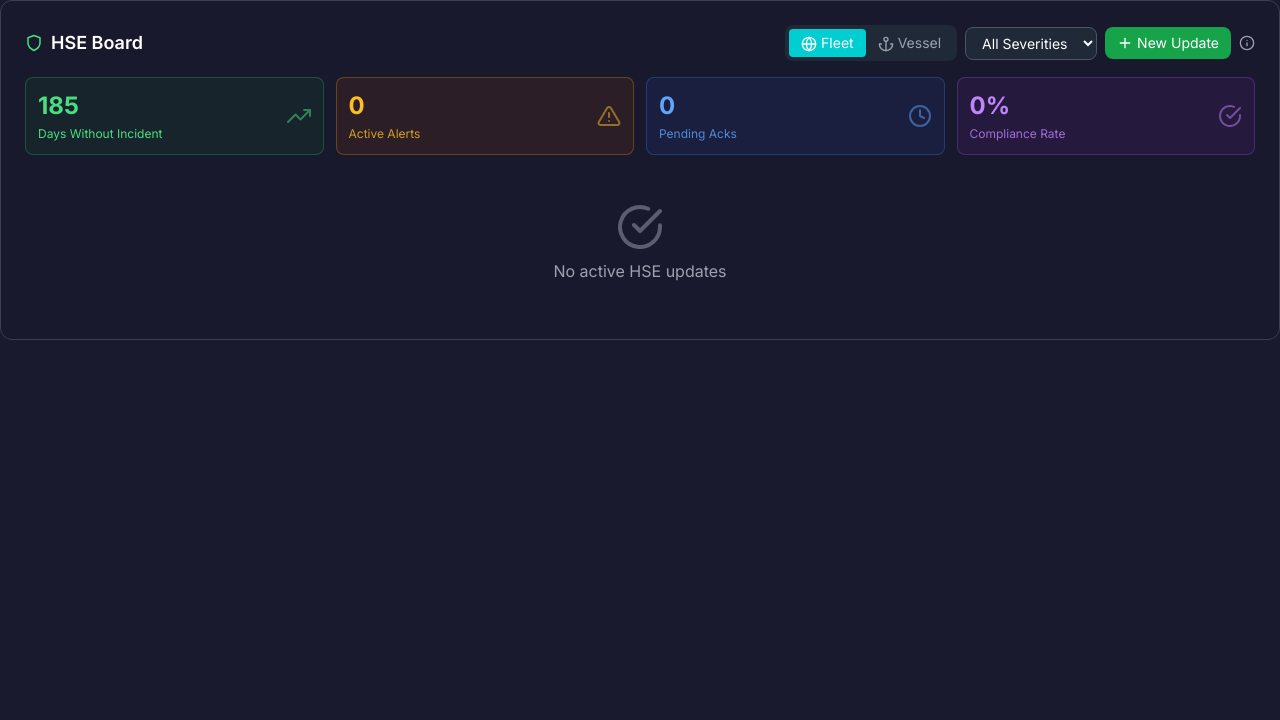
HSEBoard Component › opens create modal when New Update button is clicked
The image size is (1280, 720).
Click the button "New Update": (1168, 43) [1105,27,1231,59]
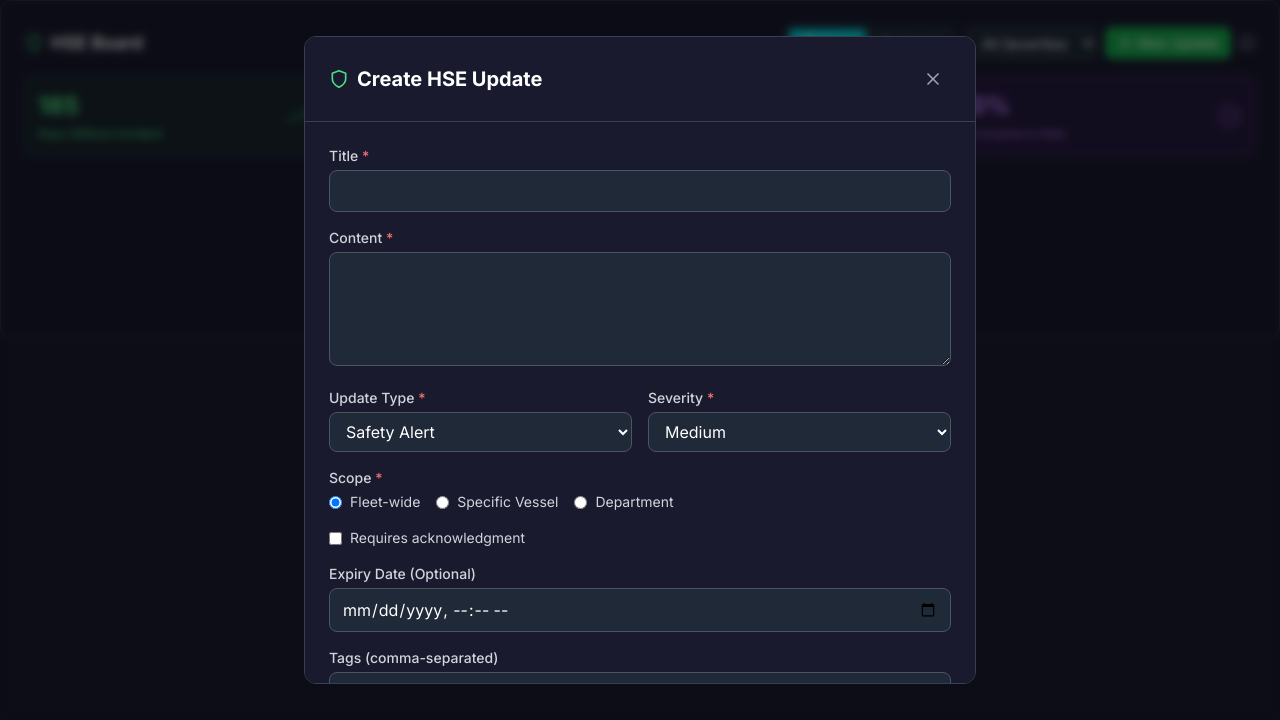
Result: the heading "Create HSE Update" is shown at [329,65,542,93]
